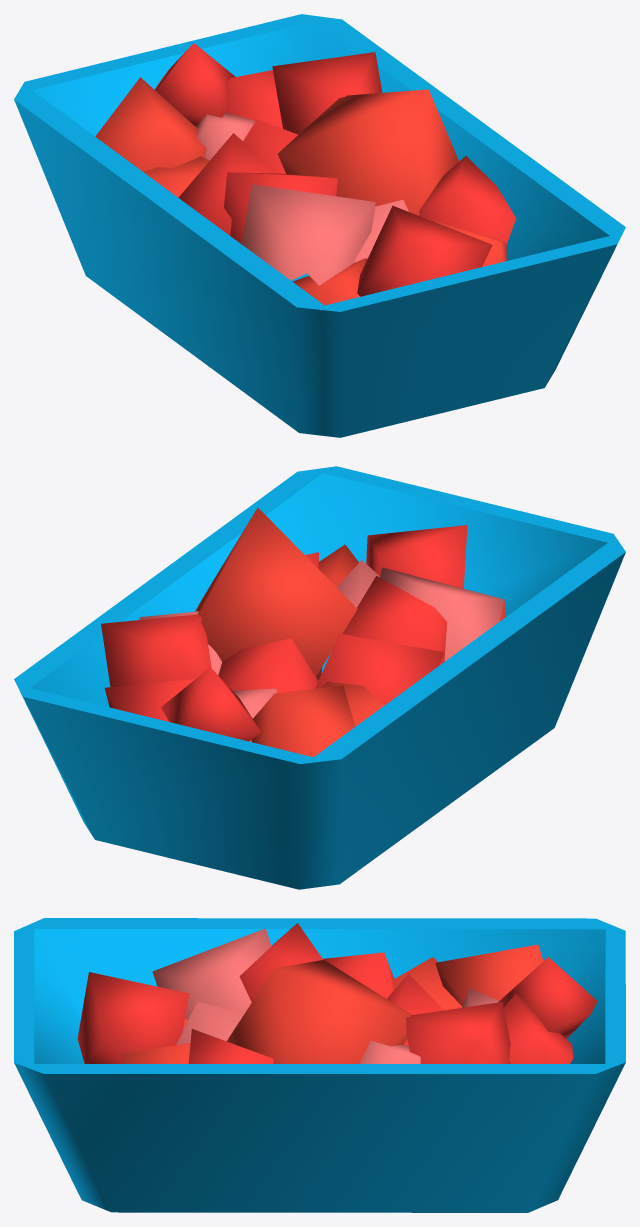
File: SM_dish_002.FBX
3 views of the same model, one above another, from view 1: azimuth 30°, elevation 25°; view 2: azimuth 150°, elevation 25°; view 3: azimuth 270°, elevation 25° (orthographic). The views are drawn at different scales.
Parts seen in each view (by area): view 1: SM_dish_002; view 2: SM_dish_002; view 3: SM_dish_002.
Boxes of the visible parts, x1,y1,x2,y2 form: SM_dish_002: [14, 14, 625, 437]; SM_dish_002: [14, 466, 625, 889]; SM_dish_002: [14, 918, 625, 1212].
Size of the model in its own units: 10.31 by 17.09 by 6.9.
